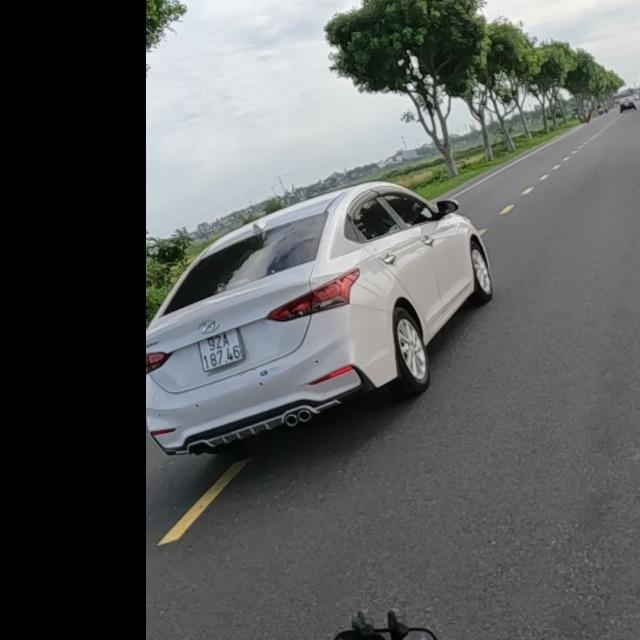license-plate: (195, 327, 246, 374)
